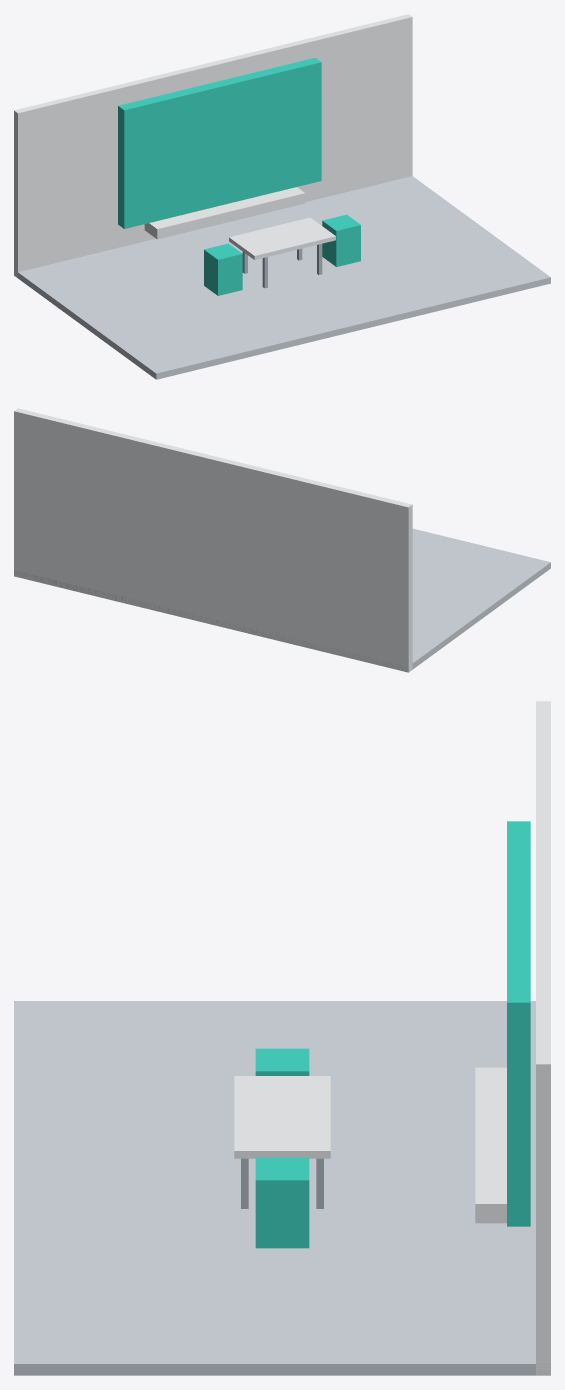
3 views of the same model, one above another, from view 1: azimuth 30°, elevation 25°; view 2: azimuth 150°, elevation 25°; view 3: azimuth 270°, elevation 25° (orthographic). The views are drawn at different scales.
Visible parts, largest first — view 1: Exhibition Booth Concept; view 2: Exhibition Booth Concept; view 3: Exhibition Booth Concept.
Part boxes in pixels (x1,y1,x2,y2): Exhibition Booth Concept: (14,14,550,379); Exhibition Booth Concept: (14,408,550,672); Exhibition Booth Concept: (14,701,550,1375).
Bounding box in the file's own units: 8 × 3.2 × 5.
